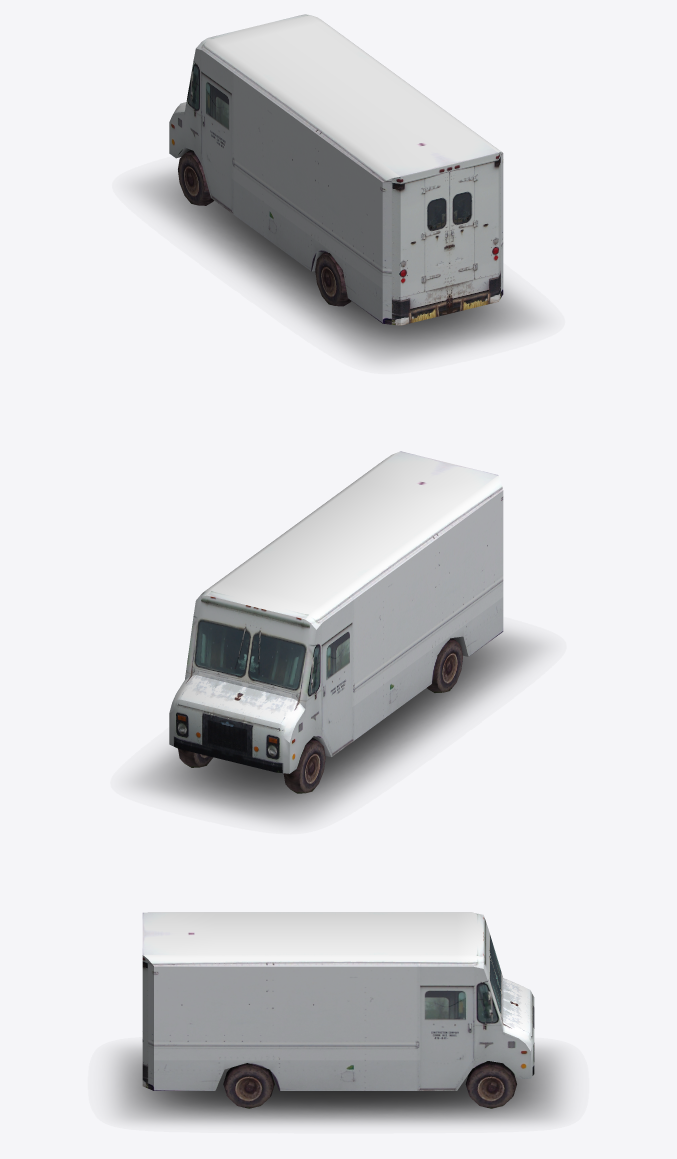
The model's file is Box_Truck_White.gltf.
3 renders of one model, top to bottom at view 1: azimuth 30°, elevation 25°; view 2: azimuth 150°, elevation 25°; view 3: azimuth 270°, elevation 25°, orthographic. The views are drawn at different scales.
Parts seen in each view (by area): view 1: Box_Truck_White; view 2: Box_Truck_White; view 3: Box_Truck_White.
Part boxes in pixels (<box>): Box_Truck_White: <box>139,14,537,361</box>; Box_Truck_White: <box>138,451,538,821</box>; Box_Truck_White: <box>114,912,562,1123</box>.
Bounding box in the file's own units: 5.6 × 3.26 × 12.69.
